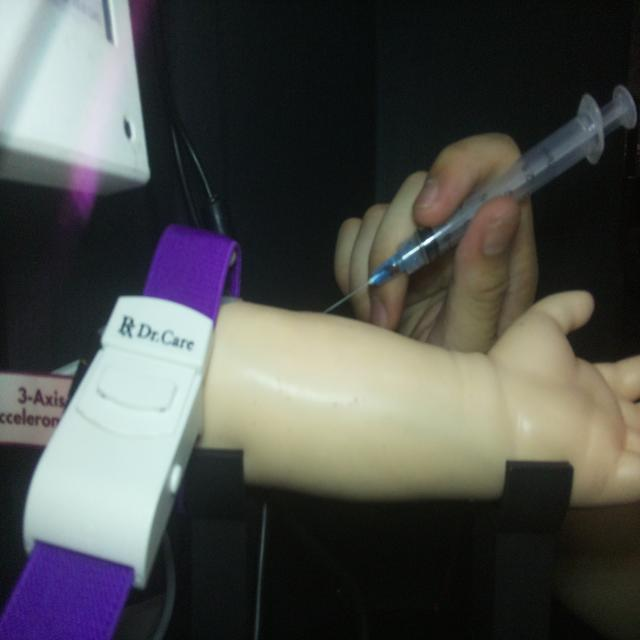23 degrees: (320, 80, 637, 316)
